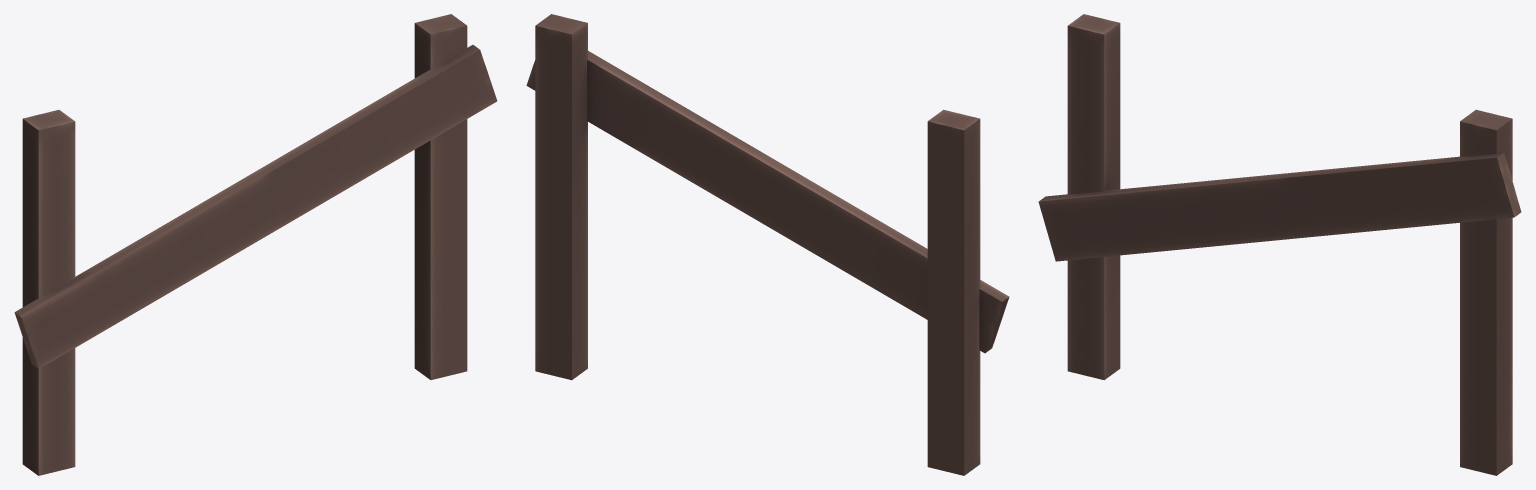
File: Fence_9.fbx
The picture shows the model from 3 angles, left to right: view 1: azimuth 30°, elevation 25°; view 2: azimuth 150°, elevation 25°; view 3: azimuth 330°, elevation 25°; orthographic projection.
Parts seen in each view (by area): view 1: Fence_9; view 2: Fence_9; view 3: Fence_9.
Part boxes in pixels (x1,y1,x2,y2): Fence_9: (14,14,497,475); Fence_9: (526,14,1009,475); Fence_9: (1038,14,1521,475).
Bounding box in the file's own units: 59.05 × 4.78 × 40.98.
Materials: 1 (1 with a texture image).
